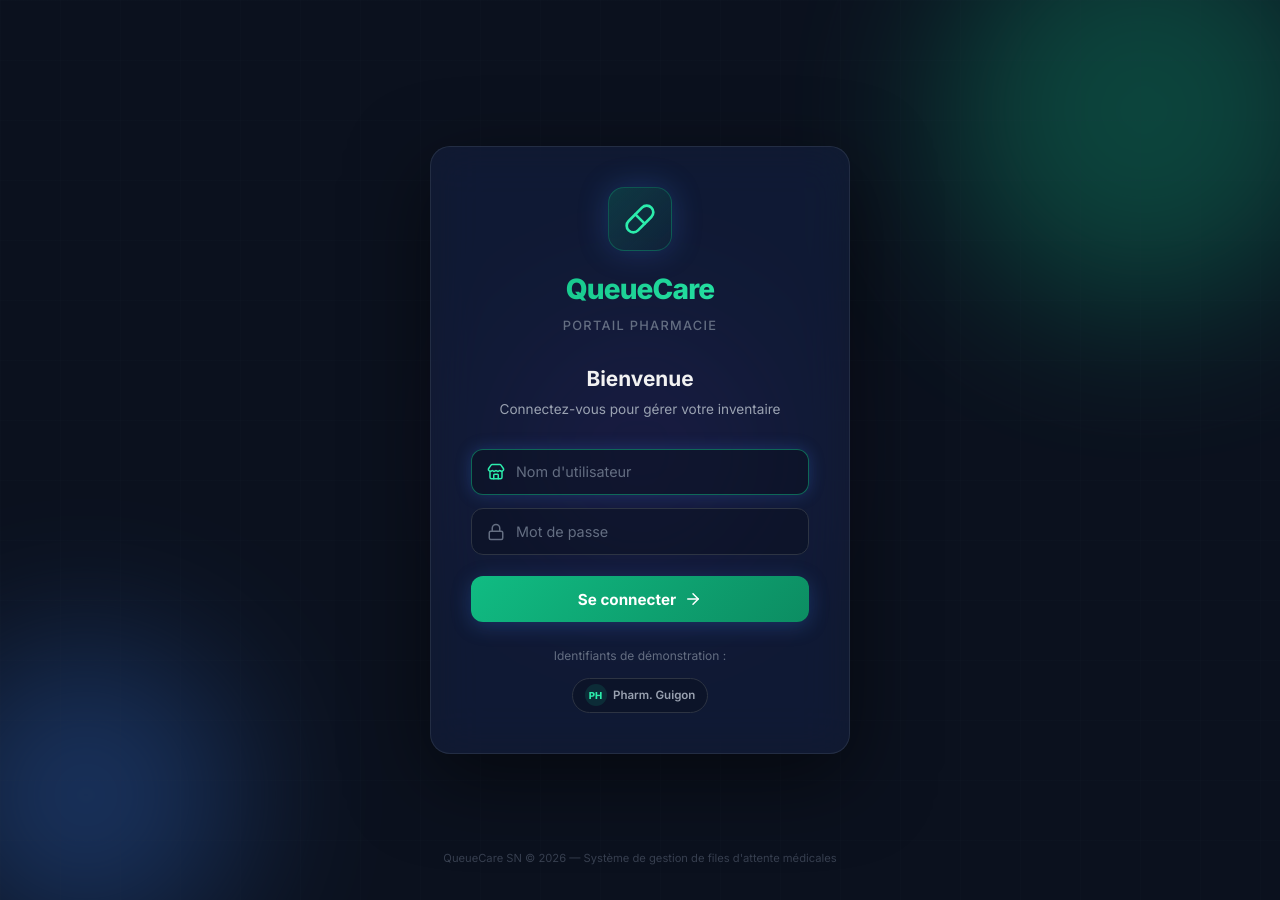
Test case: LoginScreen (Pharmacie) › remplit les champs avec les identifiants de démonstration
Click the button "PH Pharm. Guigon": (640,695) [572, 678, 708, 713]
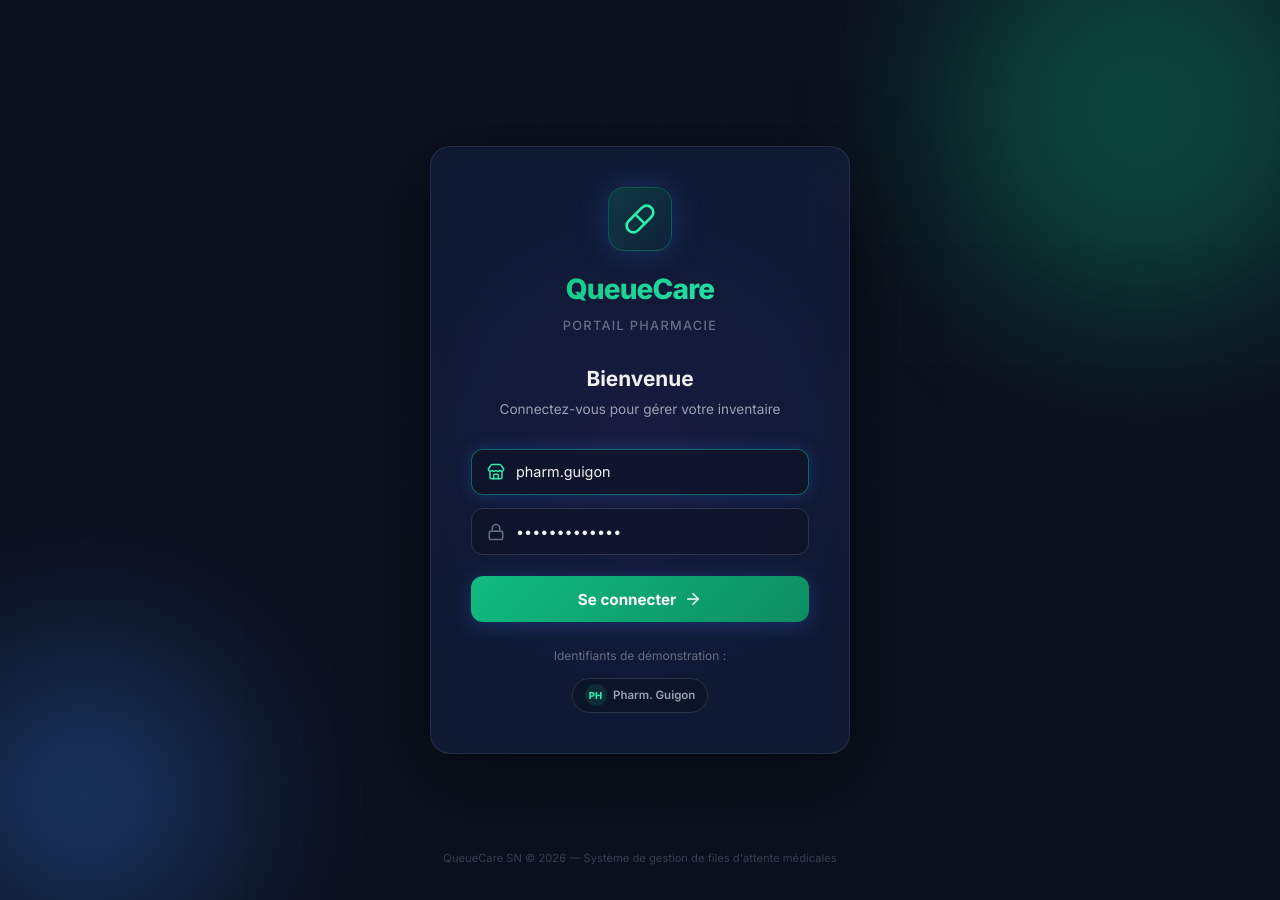
Expected: the field with placeholder "Nom d'utilisateur" holds "pharm.guigon", [471, 449, 809, 495]
Expected: the password field with placeholder "Mot de passe" holds "pharmacie2026", [471, 508, 809, 555]
